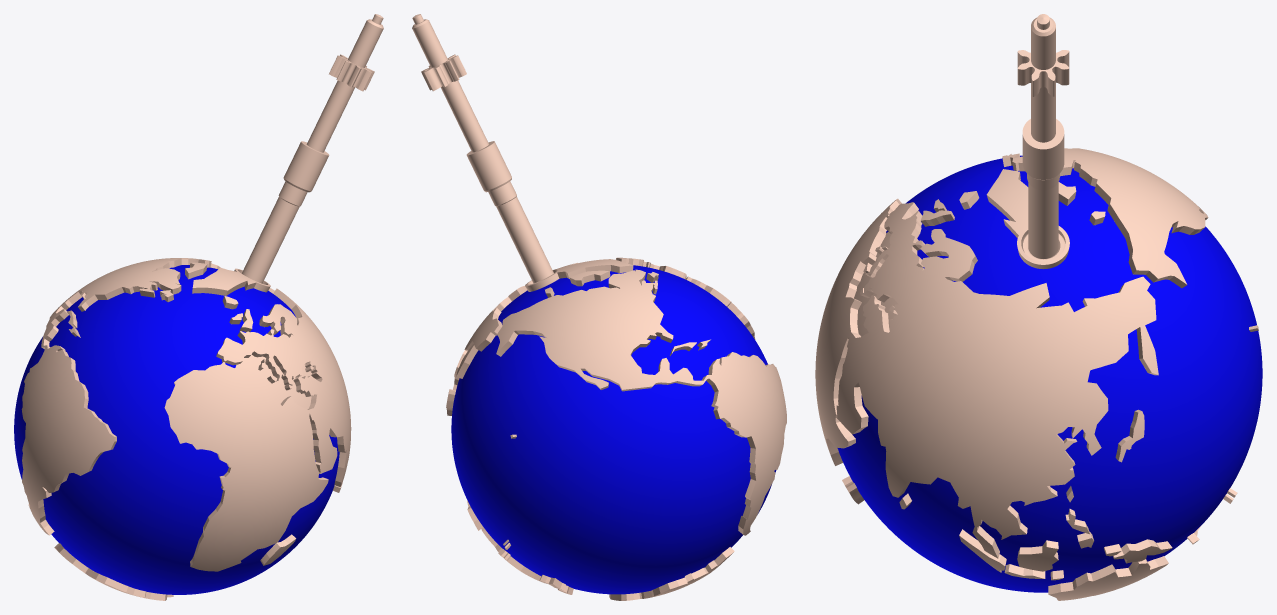
Rendered from globe_rose_gold.glb.
The picture shows the model from 3 angles, left to right: view 1: azimuth 30°, elevation 25°; view 2: azimuth 150°, elevation 25°; view 3: azimuth 270°, elevation 25°; orthographic projection. The views are drawn at different scales.
Visible parts, largest first — view 1: astronomia:NONE.006, astronomia:Importée1.202; view 2: astronomia:NONE.006, astronomia:Importée1.202; view 3: astronomia:NONE.006, astronomia:Importée1.202.
Part boxes in pixels (x1,y1,x2,y2): astronomia:NONE.006: (14,258,351,600); astronomia:Importée1.202: (242,14,383,283); astronomia:NONE.006: (446,257,786,600); astronomia:Importée1.202: (412,14,553,283); astronomia:NONE.006: (815,148,1262,600); astronomia:Importée1.202: (1017,14,1069,258).
Bounding box in the file's own units: 0.00971 × 0.0138 × 0.00804.
